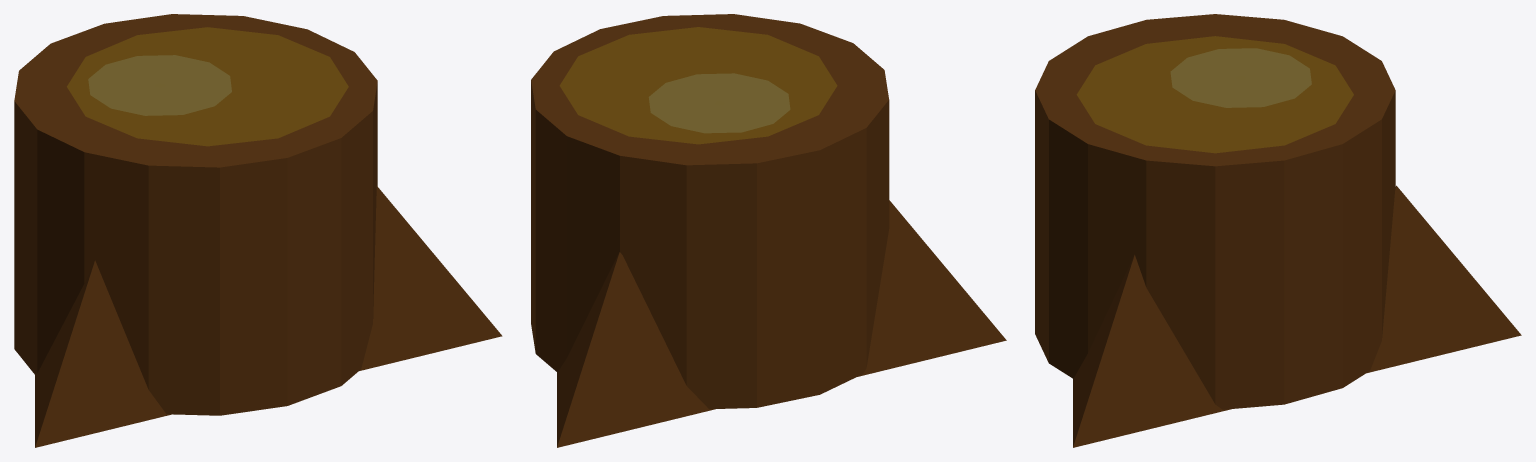
The model's file is stump.obj.
The picture shows the model from 3 angles, left to right: view 1: azimuth 30°, elevation 25°; view 2: azimuth 150°, elevation 25°; view 3: azimuth 270°, elevation 25°; orthographic projection.
Bounding box in the file's own units: 0.9849 × 0.5072 × 0.9072.
Materials: 3 (3 with a texture image).
